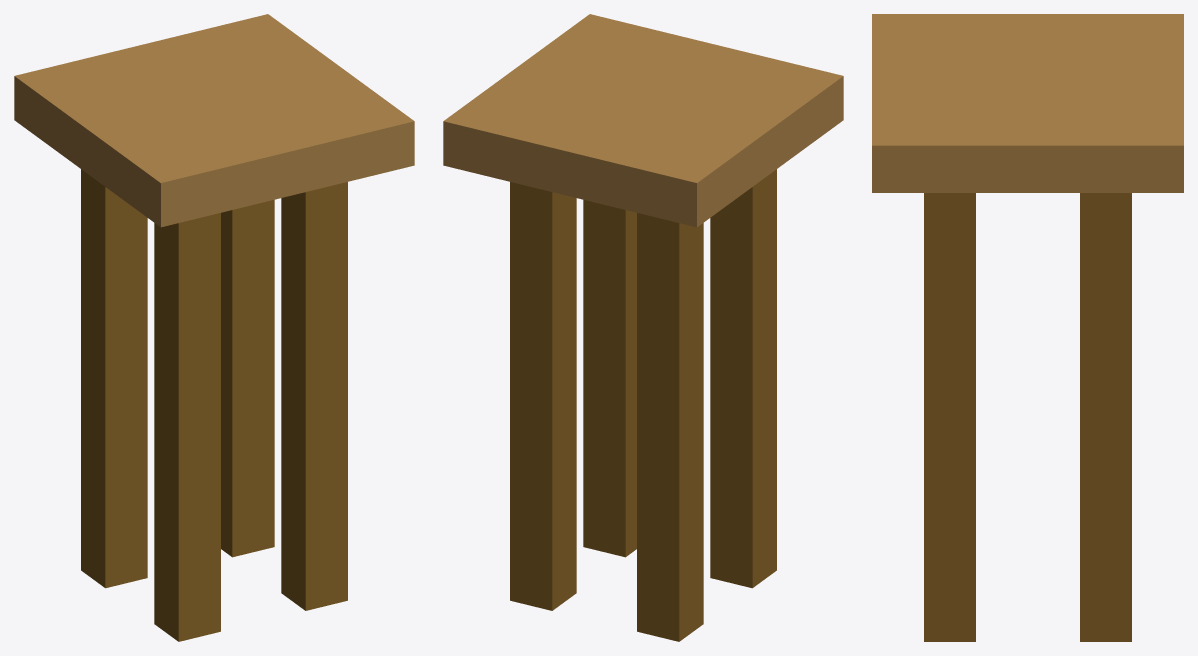
File: SpawnPlatform.gltf
3 views of the same model, side by side, from view 1: azimuth 30°, elevation 25°; view 2: azimuth 150°, elevation 25°; view 3: azimuth 270°, elevation 25° (orthographic). The views are drawn at different scales.
Parts seen in each view (by area): view 1: cube; view 2: cube; view 3: cube.
Part boxes in pixels (x1,y1,x2,y2): cube: (14, 14, 414, 641); cube: (443, 14, 843, 641); cube: (872, 14, 1183, 641).
Bounding box in the file's own units: 0.375 × 0.6875 × 0.375.
Materials: 2 (2 with a texture image).
